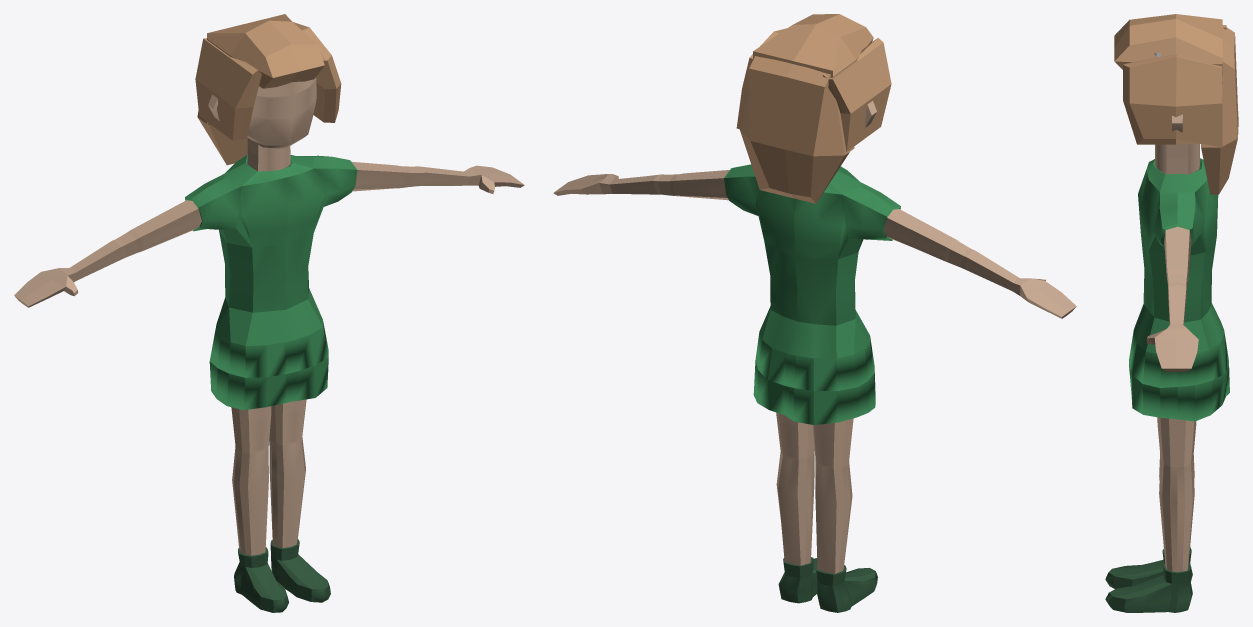
File: female.fbx
3 renders of one model, left to right at view 1: azimuth 30°, elevation 25°; view 2: azimuth 150°, elevation 25°; view 3: azimuth 270°, elevation 25°, orthographic. The views are drawn at different scales.
Parts seen in each view (by area): view 1: FemaleBody1; view 2: FemaleBody1; view 3: FemaleBody1.
Part boxes in pixels (left/top/right/bottom): FemaleBody1: left=14, top=14, right=524, bottom=612; FemaleBody1: left=553, top=14, right=1076, bottom=612; FemaleBody1: left=1105, top=14, right=1238, bottom=612.
Size of the model in its own units: 49.75 by 54.01 by 11.32.
